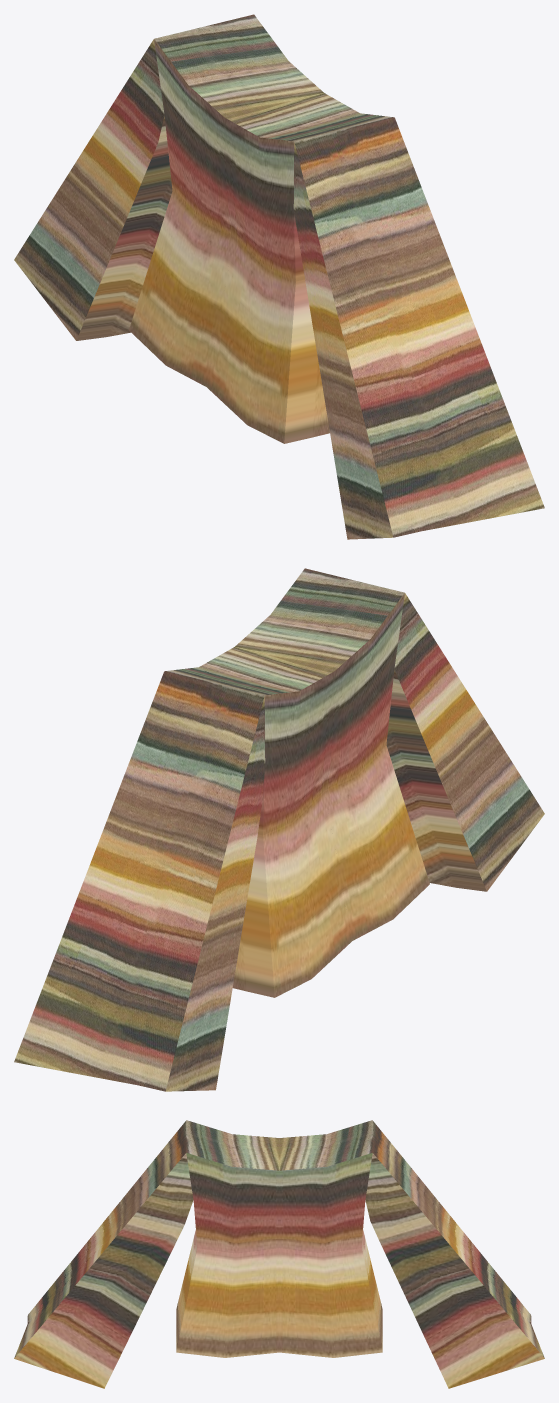
File: stripedshirt.glb
The picture shows the model from 3 angles, top to bottom: view 1: azimuth 30°, elevation 25°; view 2: azimuth 150°, elevation 25°; view 3: azimuth 270°, elevation 25°; orthographic projection. The views are drawn at different scales.
Visible parts, largest first — view 1: Cube.023; view 2: Cube.023; view 3: Cube.023.
Boxes of the visible parts, x1,y1,x2,y2 form: Cube.023: (14,14,544,539); Cube.023: (14,568,544,1091); Cube.023: (14,1120,544,1388).
Bounding box in the file's own units: 1.2 × 2.85 × 5.92.
1 material, 1 textured.
